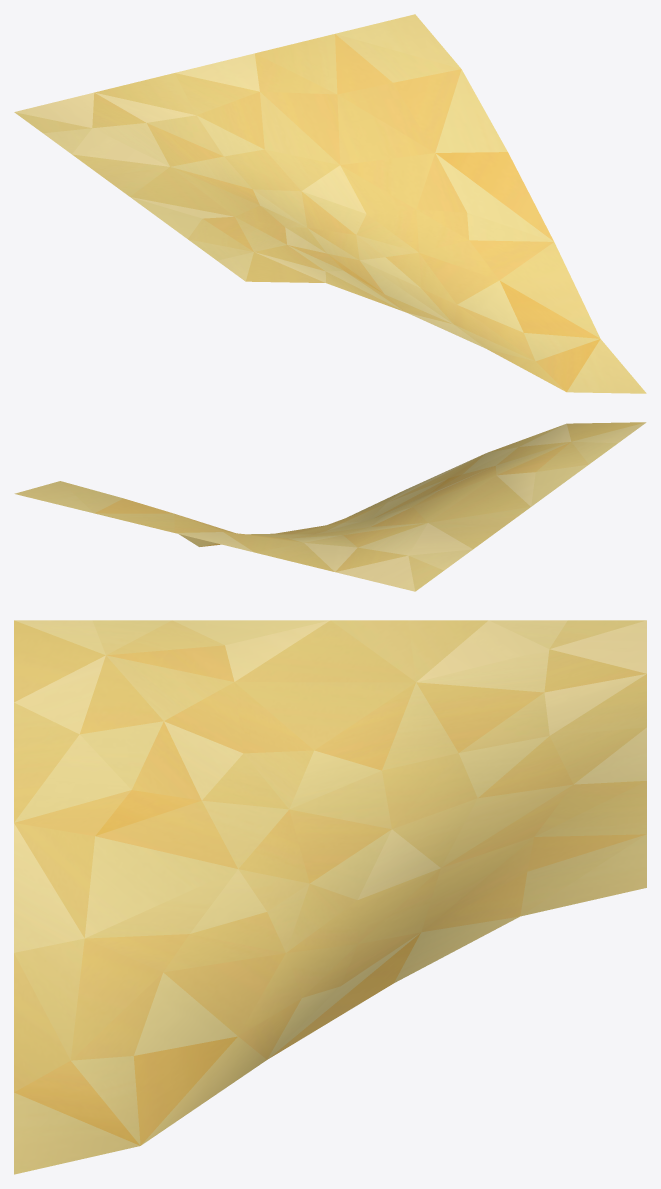
The model's file is GL-Terrain-part-08.fbx.
The picture shows the model from 3 angles, top to bottom: view 1: azimuth 30°, elevation 25°; view 2: azimuth 150°, elevation 25°; view 3: azimuth 270°, elevation 25°; orthographic projection. The views are drawn at different scales.
Parts seen in each view (by area): view 1: GL-Terrain-part-08; view 2: GL-Terrain-part-08; view 3: GL-Terrain-part-08.
Boxes of the visible parts, <box> form: GL-Terrain-part-08: <box>14,14,646,393</box>; GL-Terrain-part-08: <box>14,422,646,591</box>; GL-Terrain-part-08: <box>14,620,646,1174</box>.
Bounding box in the file's own units: 6 × 3 × 6.
